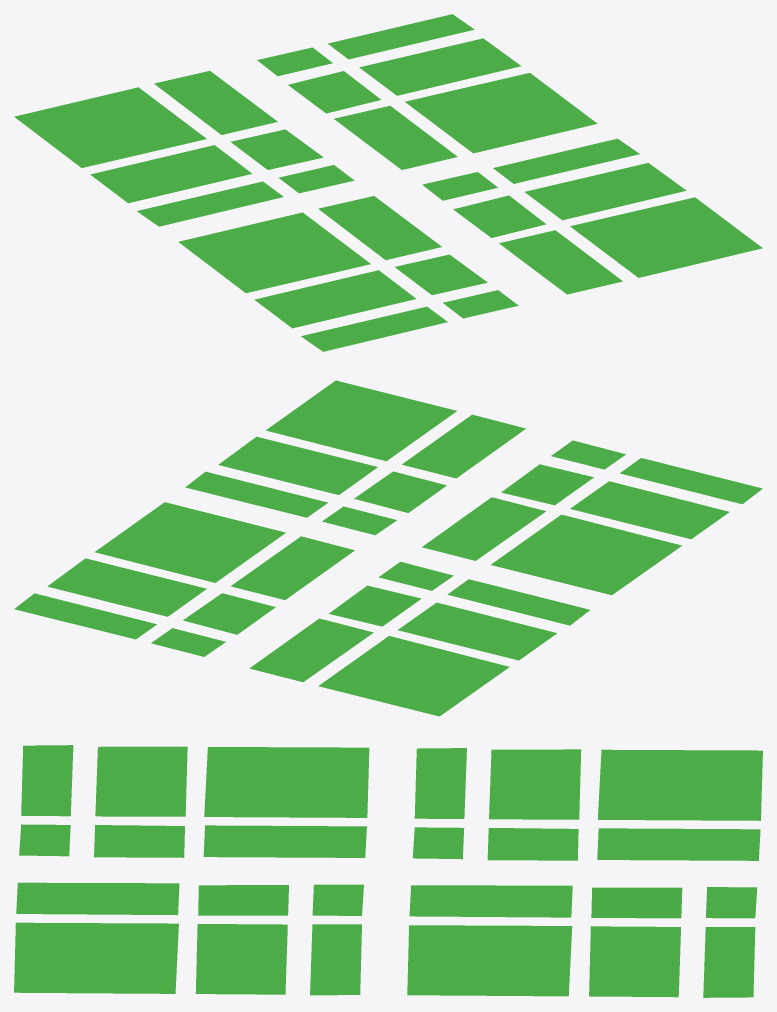
File: grass.obj
3 views of the same model, one above another, from view 1: azimuth 30°, elevation 25°; view 2: azimuth 150°, elevation 25°; view 3: azimuth 270°, elevation 25° (orthographic). The views are drawn at different scales.
Visible parts, largest first — view 1: Plane_Plane.000; view 2: Plane_Plane.000; view 3: Plane_Plane.000.
Boxes of the visible parts, x1,y1,x2,y2 form: Plane_Plane.000: (14, 14, 762, 351); Plane_Plane.000: (14, 380, 762, 716); Plane_Plane.000: (14, 745, 762, 997).
Bounding box in the file's own units: 58.03 × 0.1778 × 72.74.
